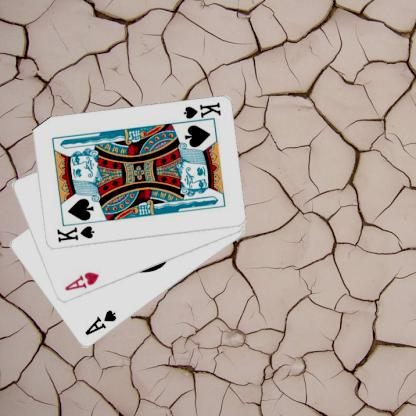AH: (62, 270, 100, 292)
AS: (82, 307, 118, 337)
KS: (178, 100, 222, 125), (54, 224, 96, 244)
